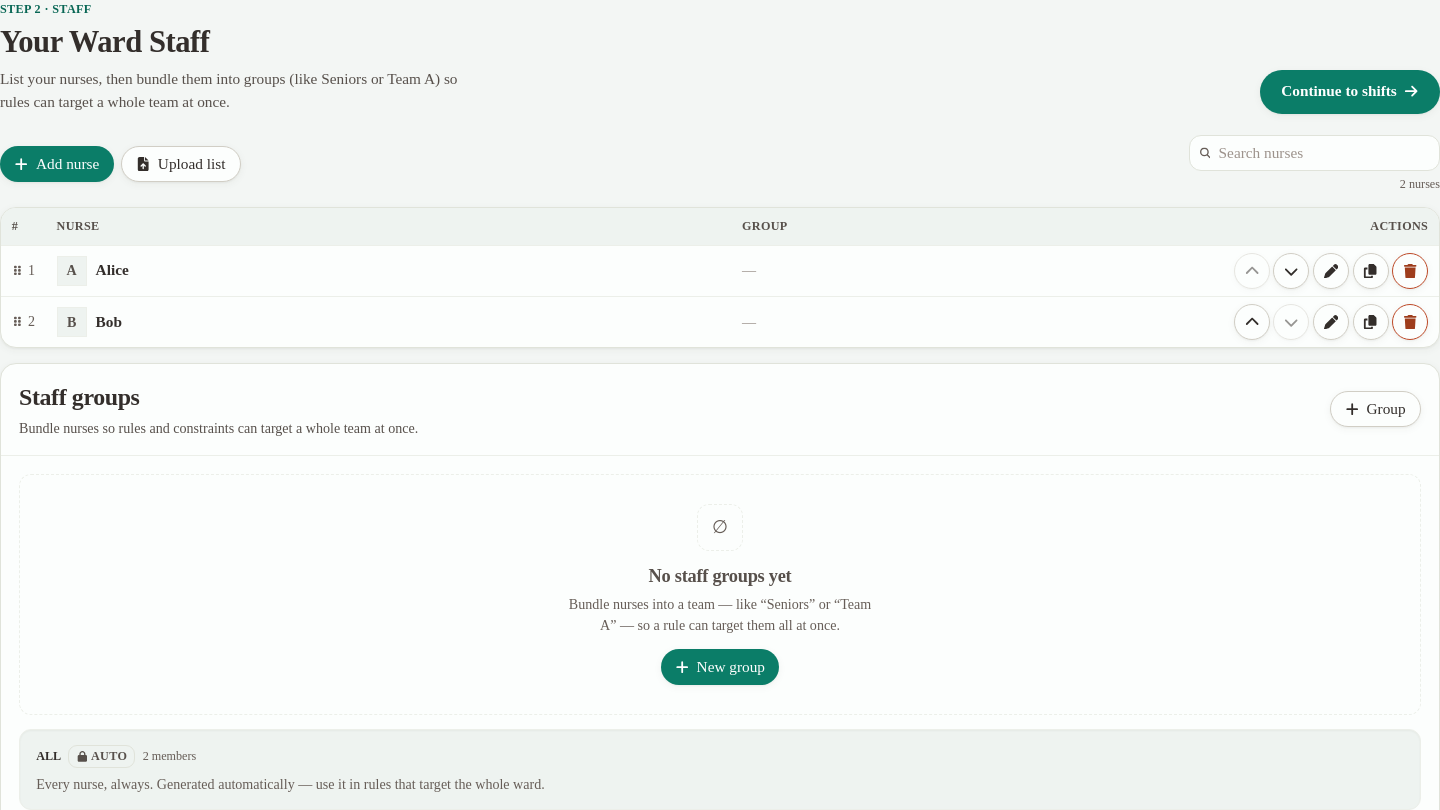
Test case: PeopleTable — read + toolbar › shows a live result count that reflects the search filter
The width and height of the screenshot is (1440, 810).
Expected: the message with test id "people-count" reads "2 nurses", top-left (1400, 177), bottom-right (1439, 191)
Type "ali" into the field with test id "people-search" at coordinates (1314, 153), box top-left (1189, 135), bottom-right (1439, 171)
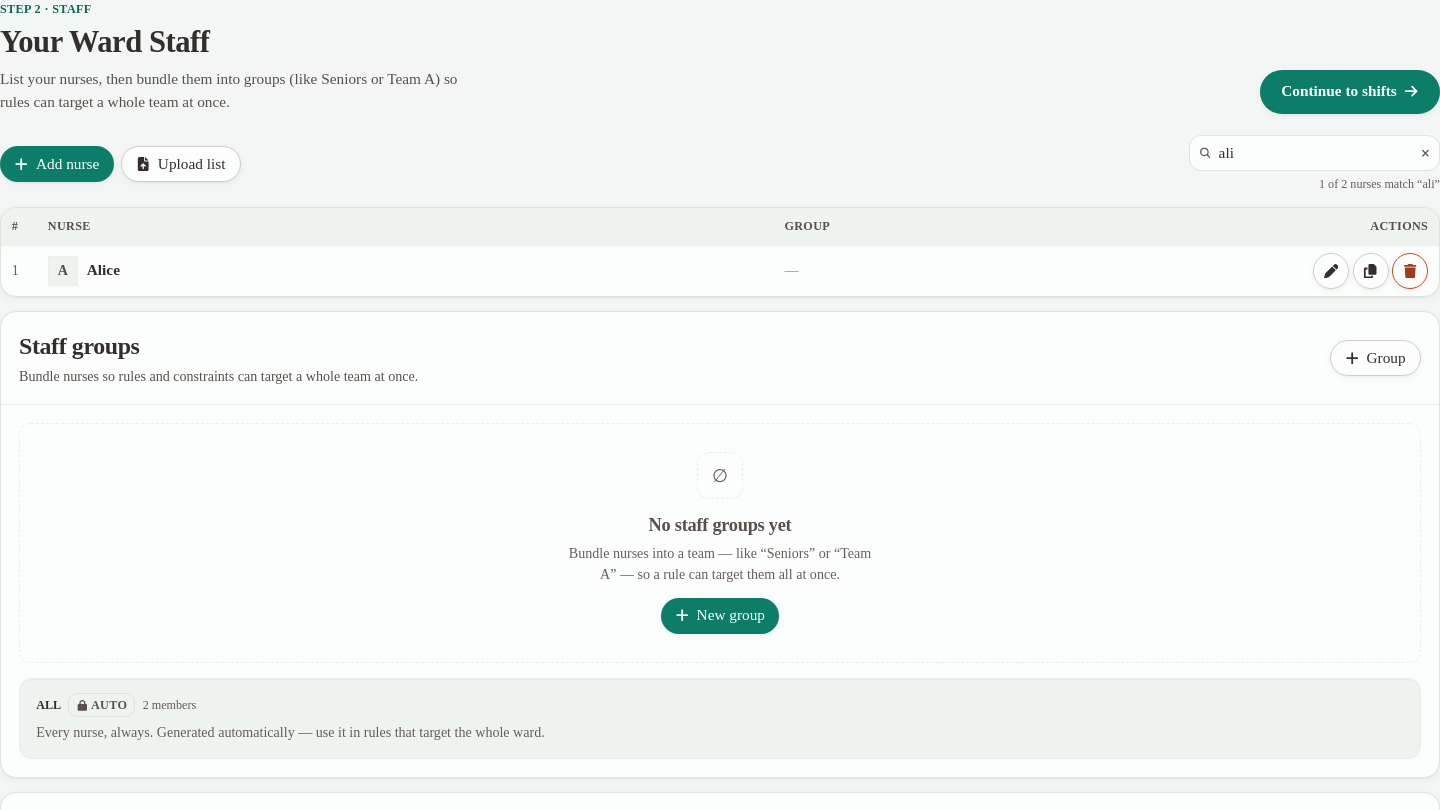
Now the message with test id "people-count" shows "1 of 2 nurses match", box top-left (1319, 177), bottom-right (1439, 191)
